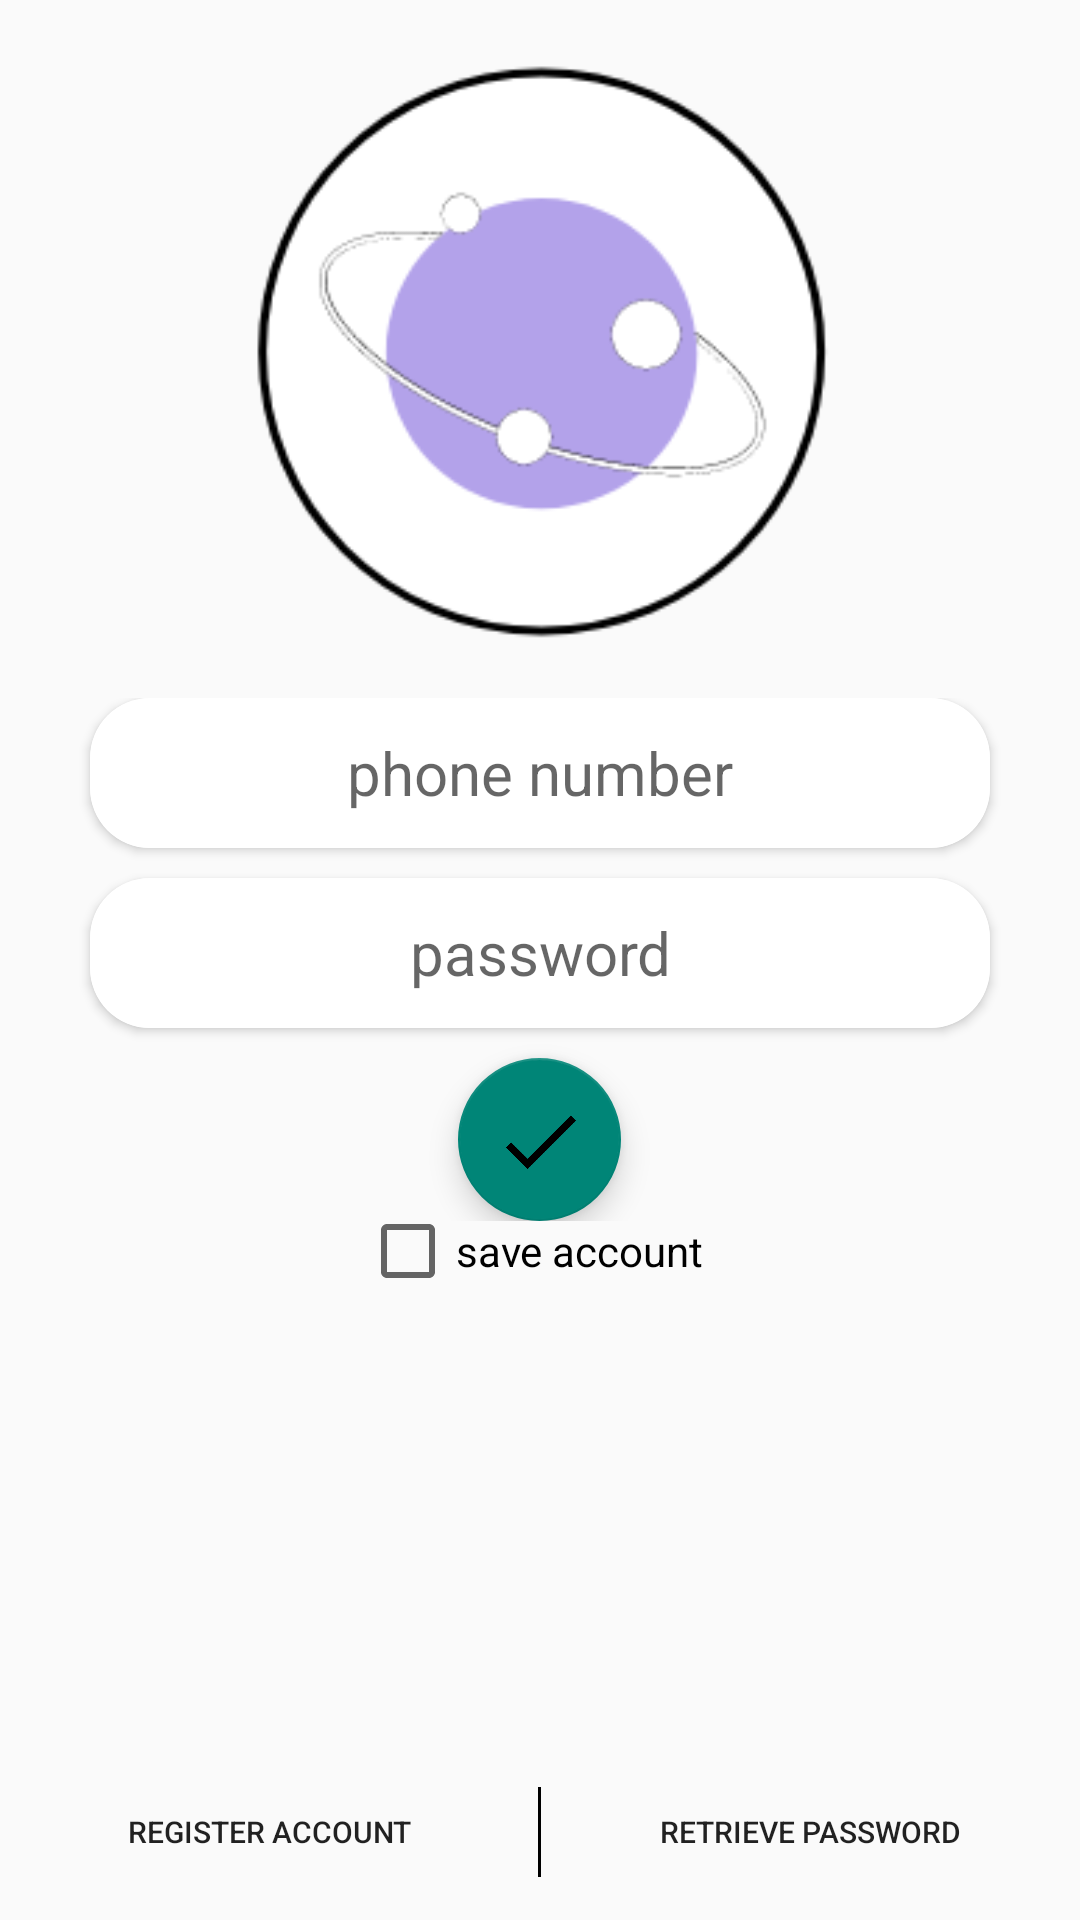

Icon bounding boxes for this 1080px×1920px phone screenshot, format (x1=x1, y1=y1, x2=x2, y2=y2):
done: (x1=458, y1=1058, x2=621, y2=1221)
